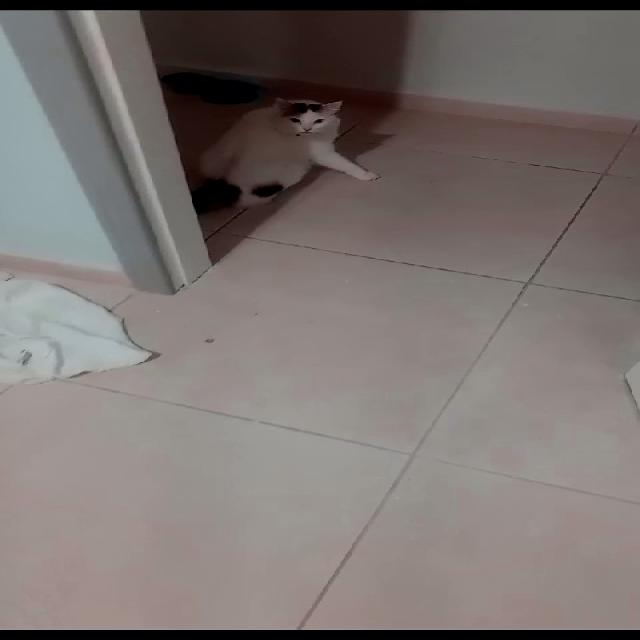Simba: (212, 94, 402, 210)
